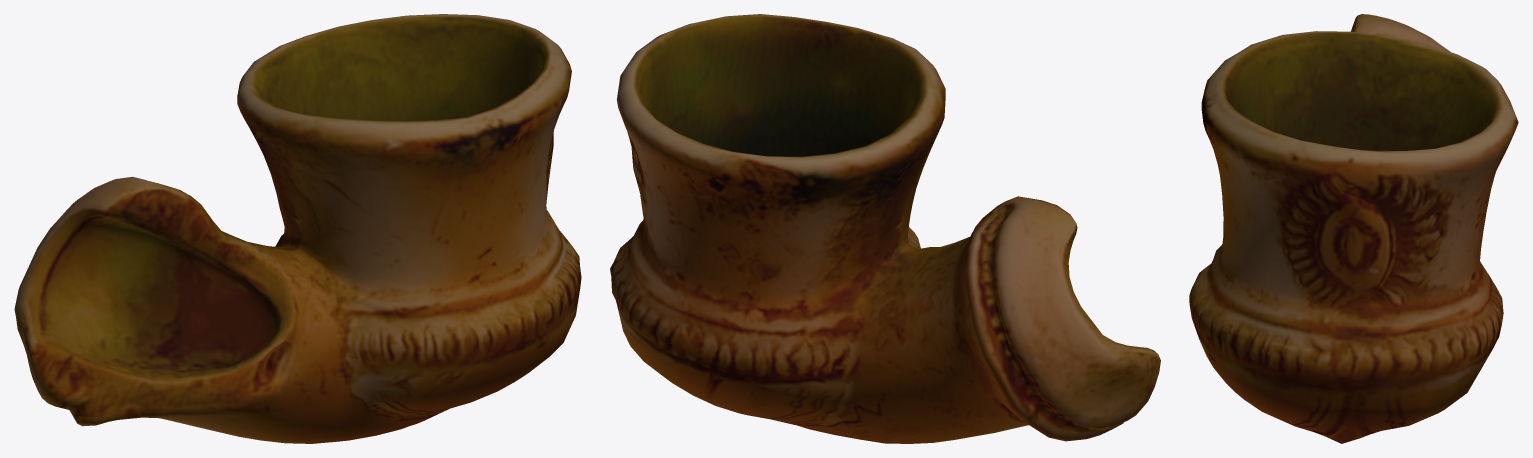
Rendered from 12.smoking_pipe.glb.
3 renders of one model, left to right at view 1: azimuth 30°, elevation 25°; view 2: azimuth 150°, elevation 25°; view 3: azimuth 270°, elevation 25°, orthographic.
Parts seen in each view (by area): view 1: Remesh.002; view 2: Remesh.002; view 3: Remesh.002.
Boxes of the visible parts, x1,y1,x2,y2 form: Remesh.002: (14, 14, 581, 443); Remesh.002: (610, 14, 1160, 443); Remesh.002: (1189, 14, 1518, 443).
Size of the model in its own units: 0.9883 by 0.6296 by 0.5357.
Materials: 1 (1 with a texture image).
